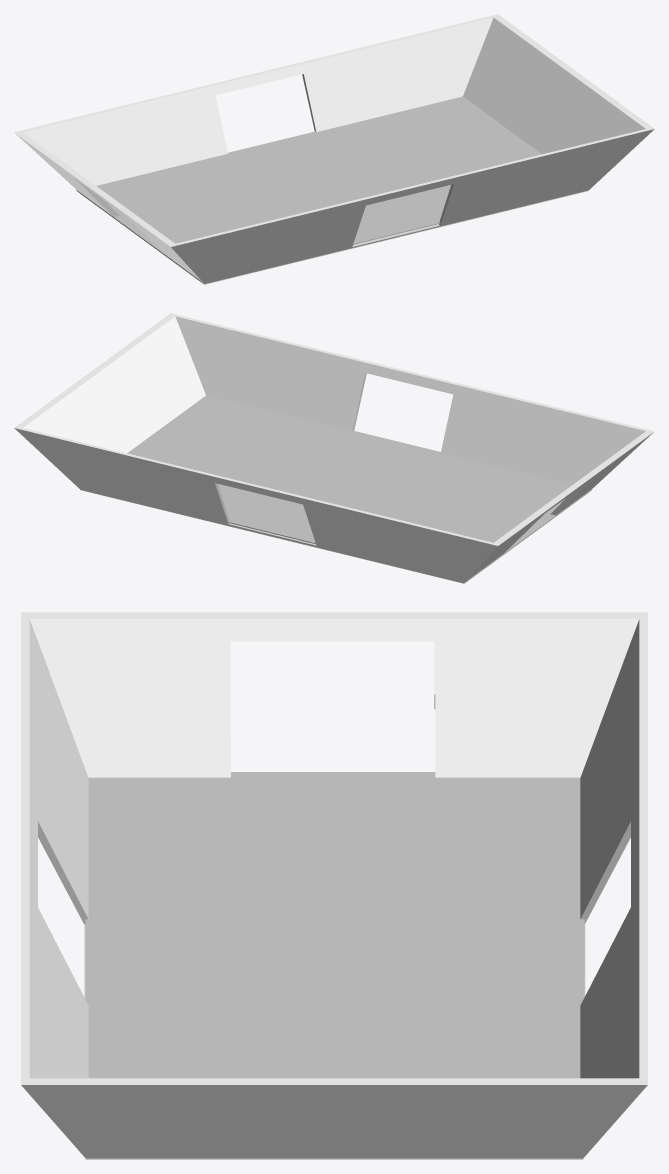
The model's file is LeftTopBottom.fbx.
3 renders of one model, top to bottom at view 1: azimuth 30°, elevation 25°; view 2: azimuth 150°, elevation 25°; view 3: azimuth 270°, elevation 25°, orthographic. The views are drawn at different scales.
Parts seen in each view (by area): view 1: Room12, Piso1; view 2: Room12, Piso1; view 3: Room12, Piso1.
Boxes of the visible parts, <box> form: Room12: <box>14,14,654,284</box>; Piso1: <box>76,96,541,281</box>; Room12: <box>14,313,654,583</box>; Piso1: <box>127,395,592,580</box>; Room12: <box>21,612,647,1159</box>; Piso1: <box>85,772,584,1078</box>.
Bounding box in the file's own units: 4100 × 500 × 2300.
